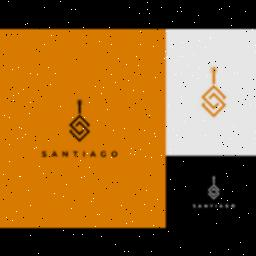s: (40, 147, 48, 159)
